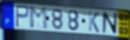8: (50, 9, 65, 31), (68, 10, 80, 32)
K: (88, 11, 100, 34)
M: (28, 6, 49, 31)
N: (102, 11, 118, 35)
P: (15, 4, 30, 29)
